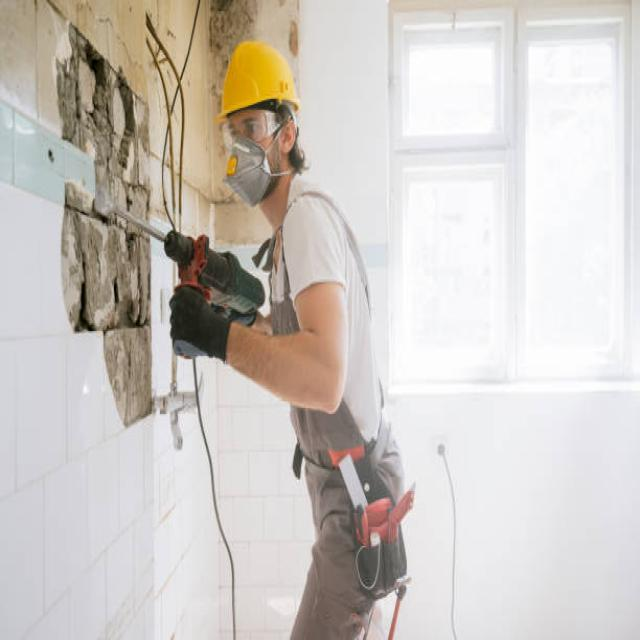Gloves: (164, 283, 238, 365)
helmet: (212, 38, 303, 129)
person: (168, 35, 415, 640)
